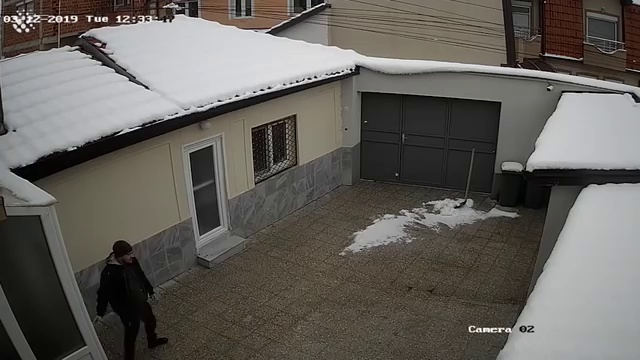face: (121, 251, 135, 262)
